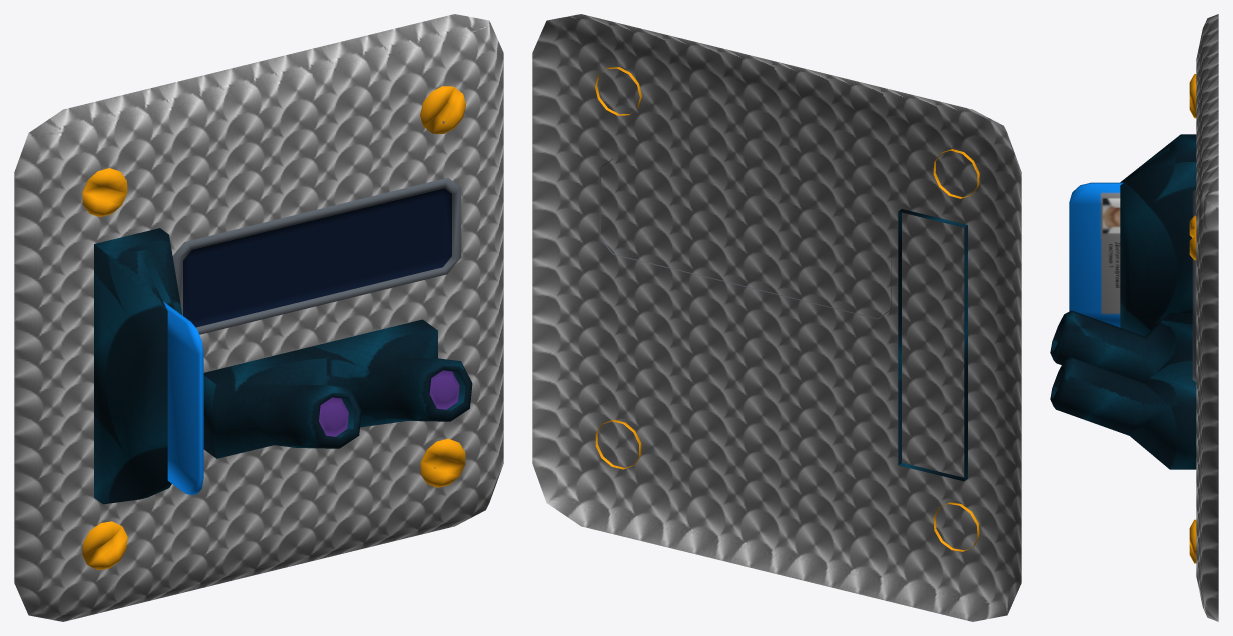
Rendered from Kard_Reeder.fbx.
The picture shows the model from 3 angles, left to right: view 1: azimuth 30°, elevation 25°; view 2: azimuth 150°, elevation 25°; view 3: azimuth 270°, elevation 25°; orthographic projection. The views are drawn at different scales.
Parts seen in each view (by area): view 1: Panel, Skreen, Scaner, Bolts, Kard; view 2: Panel, Bolts, Skreen; view 3: Panel, Scaner, Kard, Bolts, Skreen.
Part boxes in pixels (<box>): Panel: <box>14,14,503,621</box>; Skreen: <box>172,178,461,334</box>; Scaner: <box>203,319,472,458</box>; Bolts: <box>82,86,465,569</box>; Kard: <box>163,301,203,495</box>; Panel: <box>532,14,1021,621</box>; Bolts: <box>595,67,979,551</box>; Skreen: <box>599,158,891,319</box>; Panel: <box>1120,14,1218,621</box>; Scaner: <box>1050,310,1196,469</box>; Kard: <box>1069,182,1123,327</box>; Bolts: <box>1189,74,1196,563</box>; Skreen: <box>1192,189,1196,381</box>.
Bounding box in the file's own units: 69.8 × 69.8 × 24.18.
